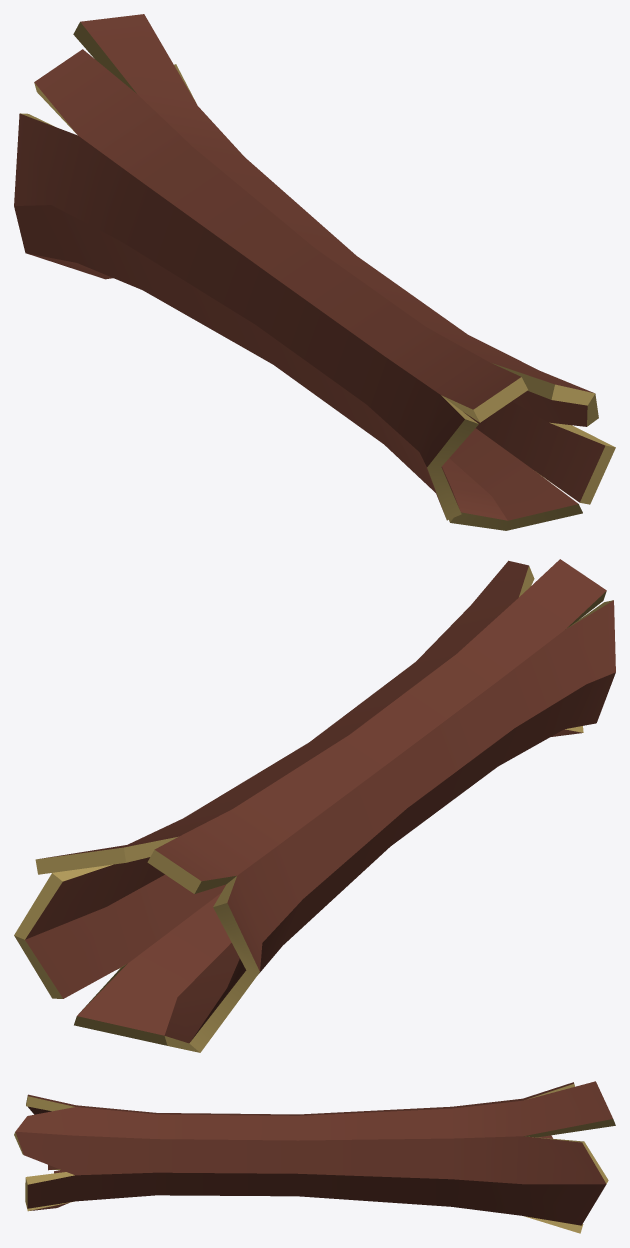
Rendered from log1.fbx.
The picture shows the model from 3 angles, top to bottom: view 1: azimuth 30°, elevation 25°; view 2: azimuth 150°, elevation 25°; view 3: azimuth 270°, elevation 25°; orthographic projection. The views are drawn at different scales.
Visible parts, largest first — view 1: log1:pCylinder9; view 2: log1:pCylinder9; view 3: log1:pCylinder9.
Boxes of the visible parts, box(x1,y1,x2,y2) form: log1:pCylinder9: box(14, 14, 615, 530); log1:pCylinder9: box(14, 559, 615, 1052); log1:pCylinder9: box(14, 1081, 615, 1233).
Bounding box in the file's own units: 0.9078 × 0.9506 × 3.56.
